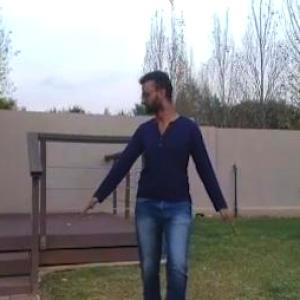land: (64, 74, 257, 299)
